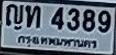letters: (5, 3, 24, 31), (25, 5, 42, 29), (50, 6, 66, 31), (66, 7, 81, 32), (81, 8, 96, 33), (97, 10, 112, 34)
province: (17, 35, 98, 50)
